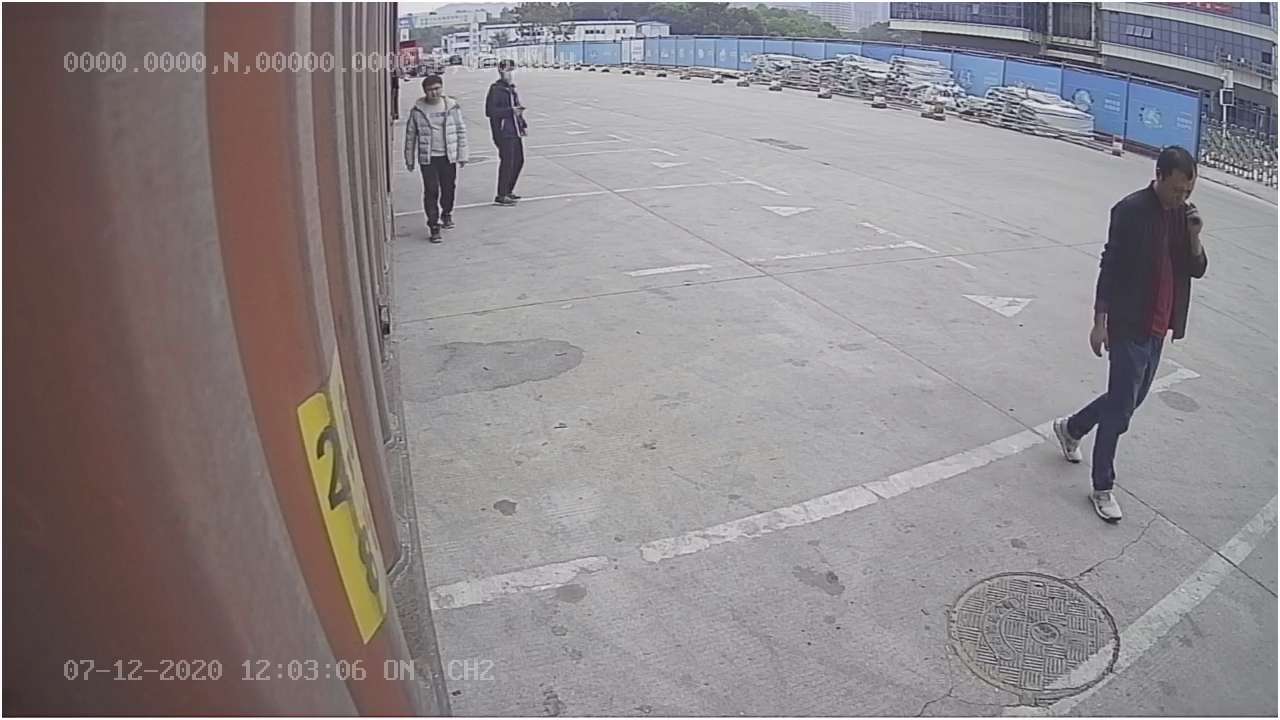person: (1053, 137, 1208, 529)
